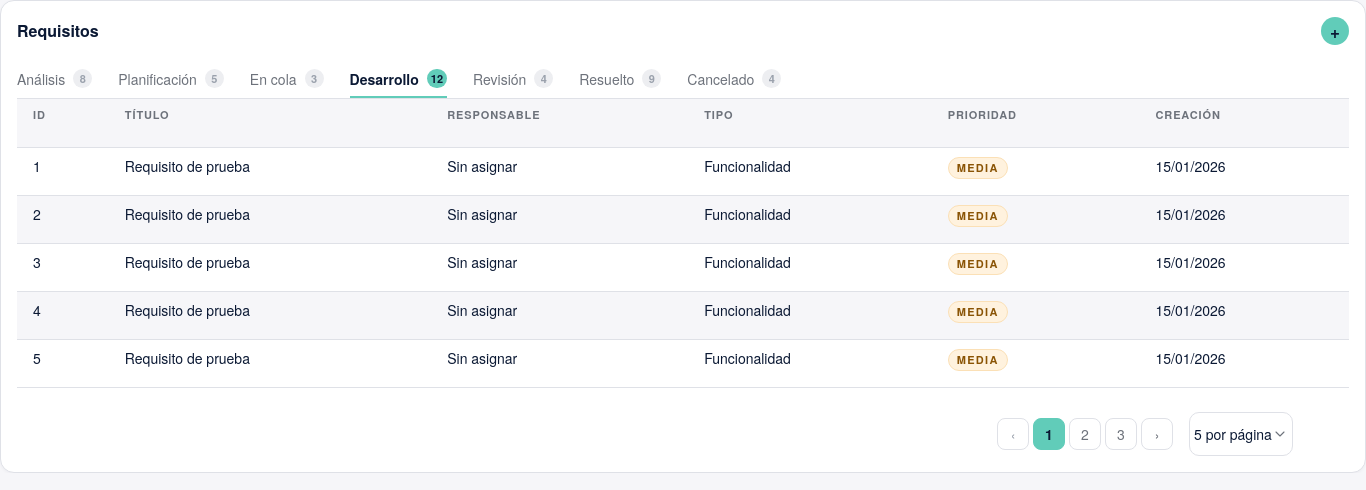
ProjectRequirementsSection — página fuera de rango (CA-9) › TS-23: el clamp nunca produce una página menor a 1
Click the button named "Página 3" at (1121, 434), box [1105,418,1137,450]
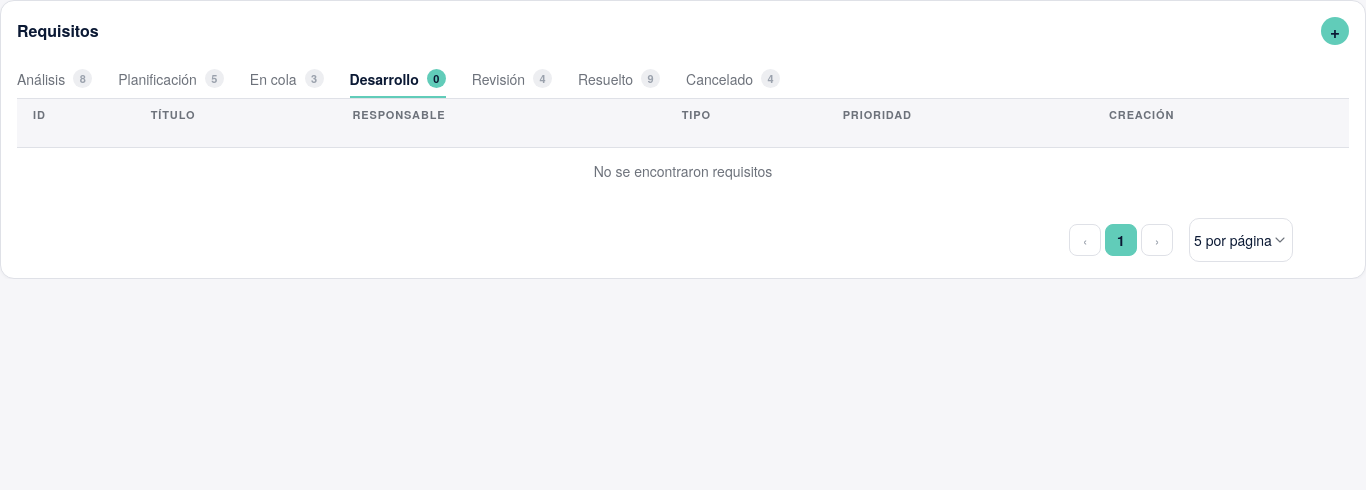
Expected: the navigation bar named "Paginación" is shown, [1068,218,1293,262]
Expected: the button named "Página siguiente" is disabled, [1141,224,1173,256]
